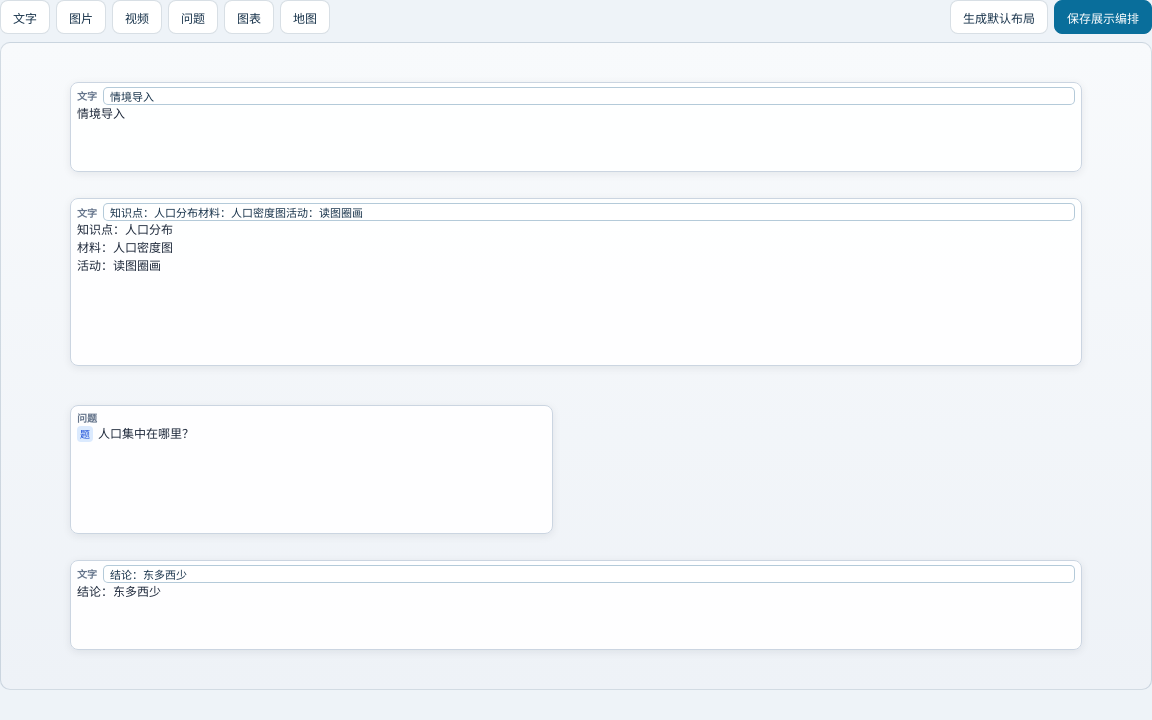
PresentationLayoutEditor › shows the question picker restricted to stage questions
The image size is (1152, 720).
What coordinates should you click on to do the following:
click the button with aria-label "插入问题区块"
I would click on:
 (193, 17)
Its box is [168,0,218,34].
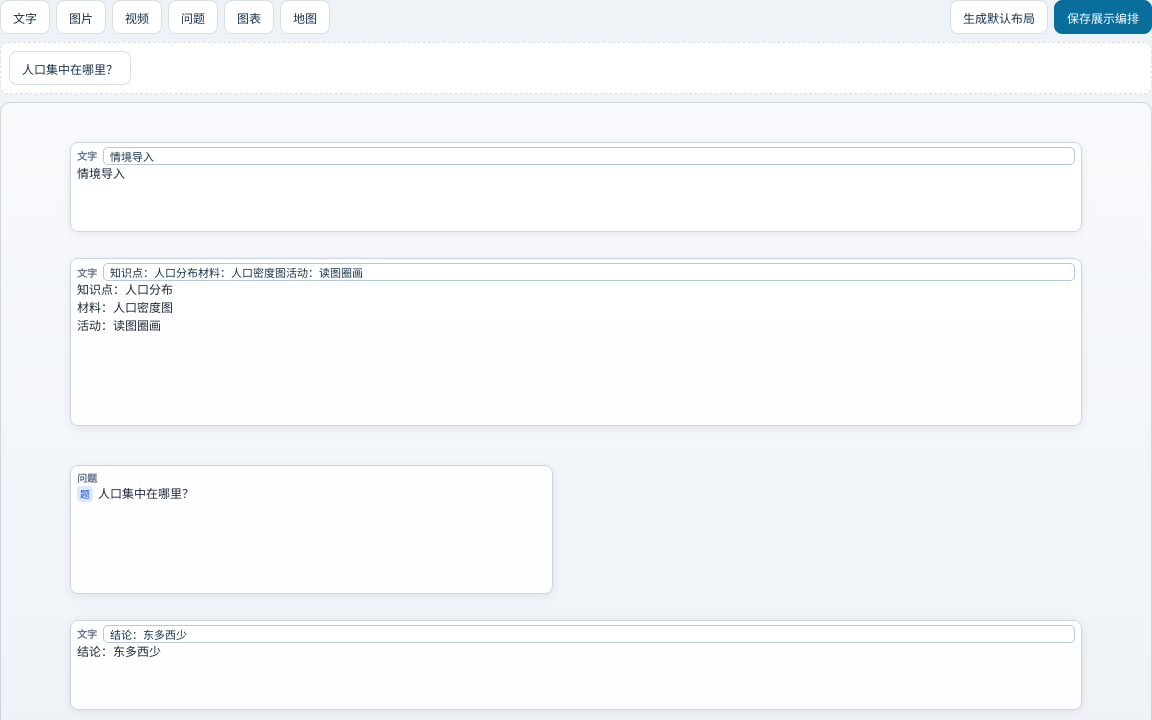
Check: the button "人口集中在哪里？" is shown, box [9,51,131,85]
